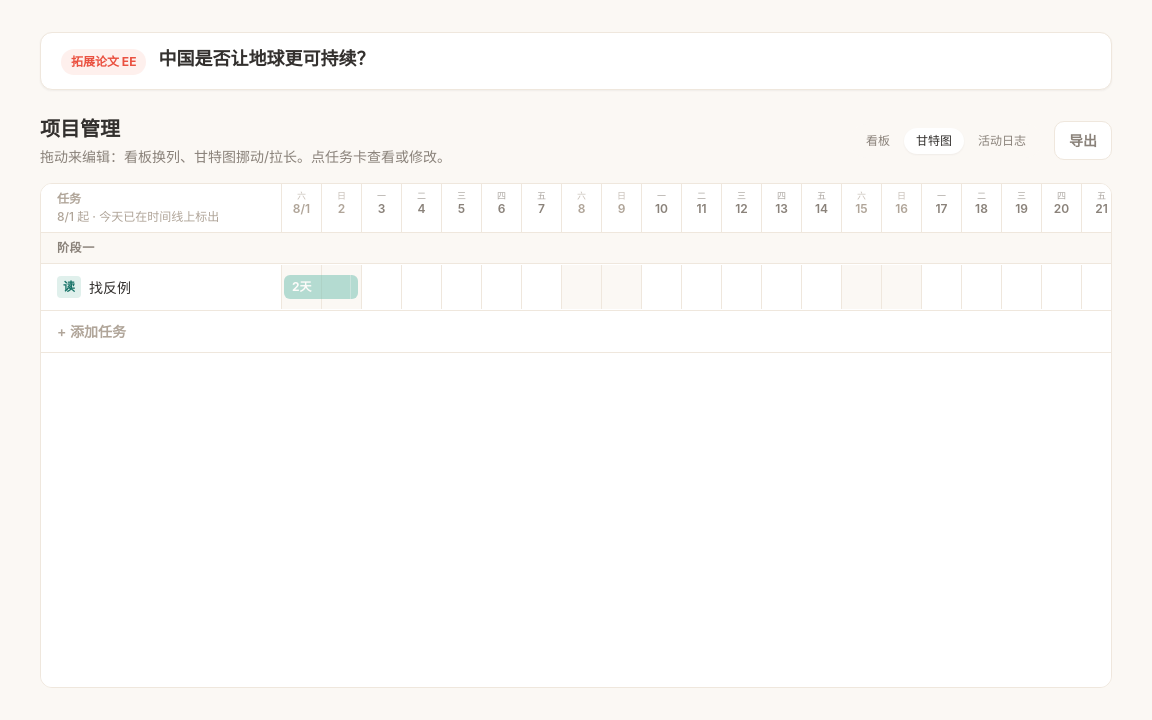
PlanBlock · working phase (plan board) is unaffected by the coach restyle › P2a Tier-1 strip: the board drops the 查看我的题目/收起 toggle and the 进入 → per-card doorway
The image size is (1152, 720).
Check: the text "找反例" is shown, box [89,276,131,298]
Click the button "看板" at (878, 140), box [854,128,902,154]
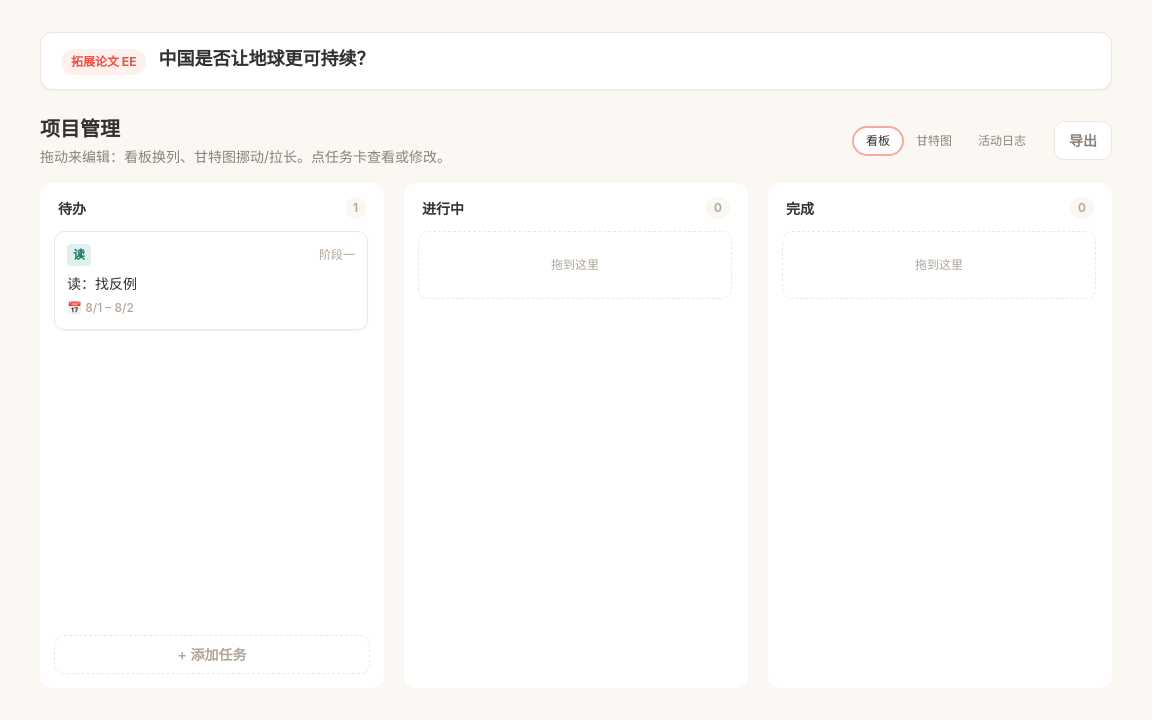
Check: the button "读：找反例" is shown, box [67,274,355,293]
